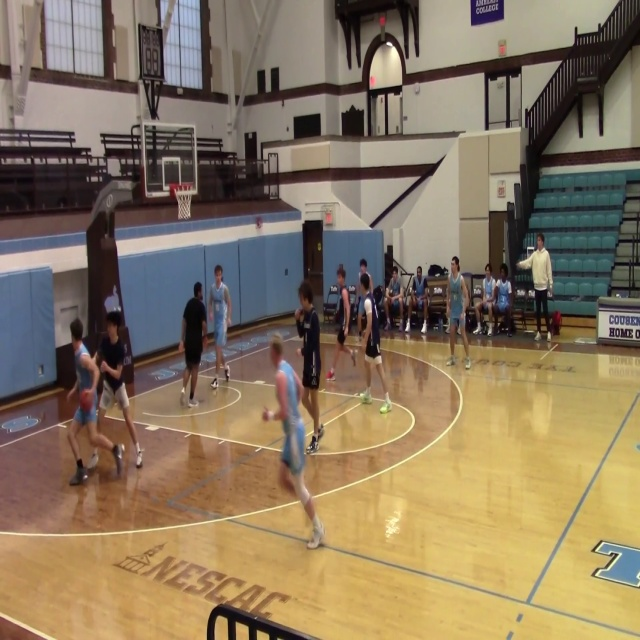Basketball: (79, 390, 94, 411), (262, 409, 272, 421)
